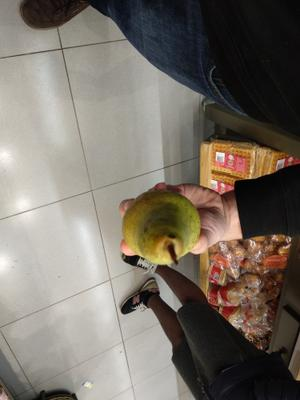pear: (0, 0, 300, 400)
